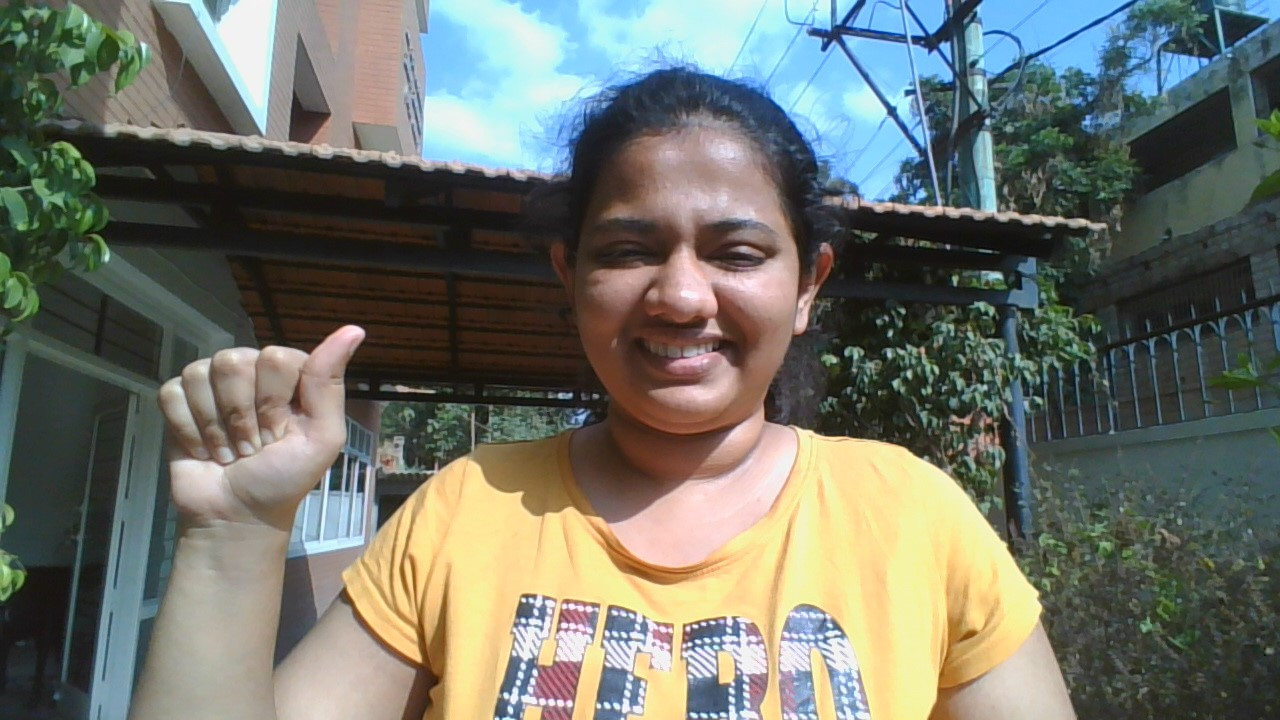a: (144, 317, 373, 549)
